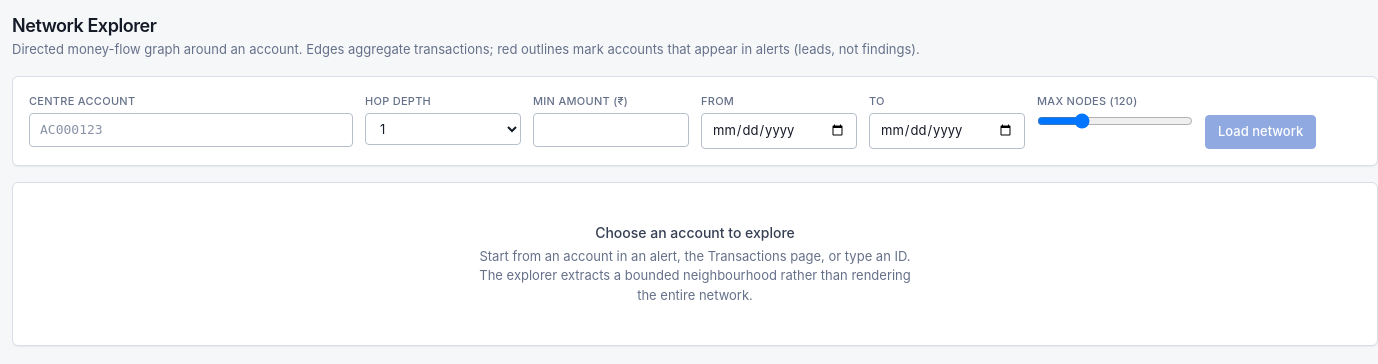
network explorer › shows an error when the account is unknown
Expected: the text "Choose an account to explore" is shown, [595,222,795,242]
Type "NOPE" into the field labelled "Centre account".
click(191, 130); type("NOPE")  # box [29,113,353,146]
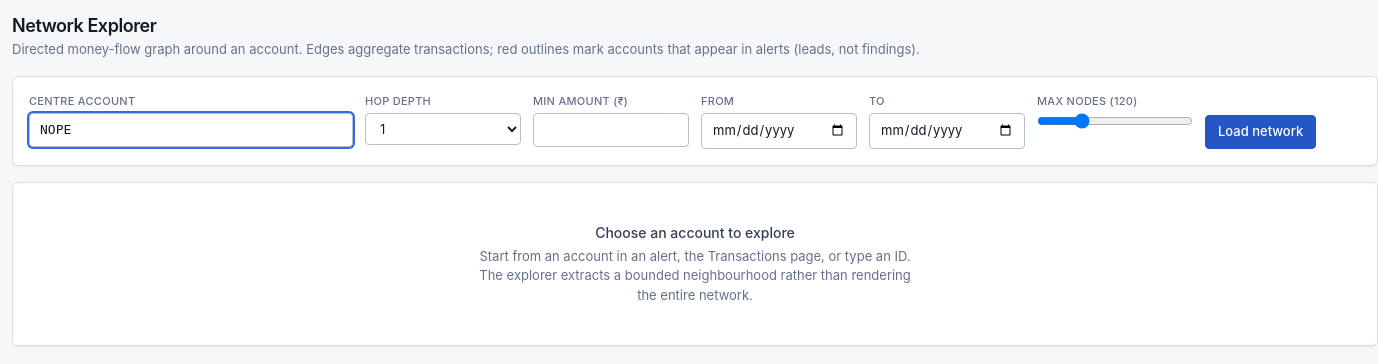
Click the button "Load network".
click(1261, 132)  # box [1205,115,1316,148]
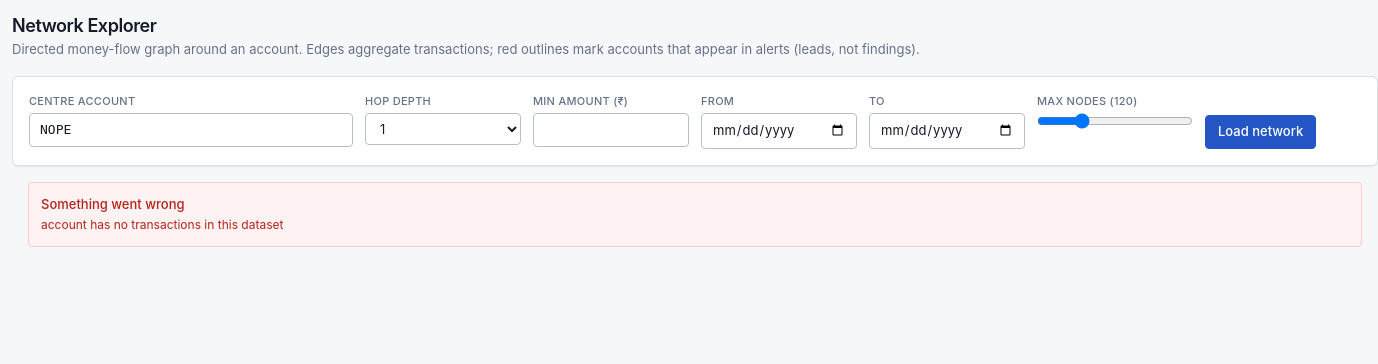
Expected: the message shows "no transactions", [41,217,283,232]
